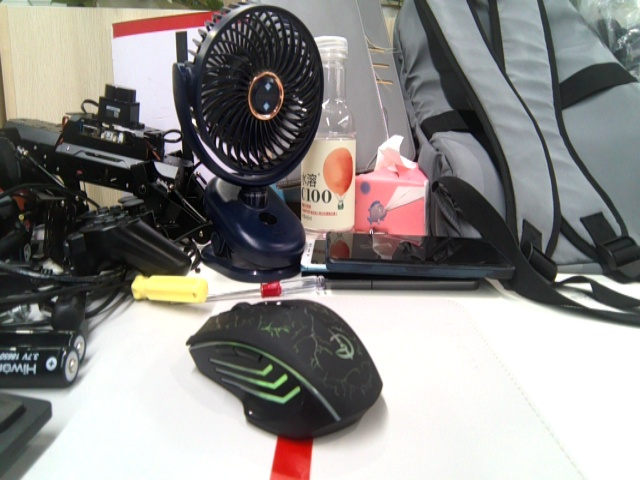mouse: (174, 297, 385, 423)
